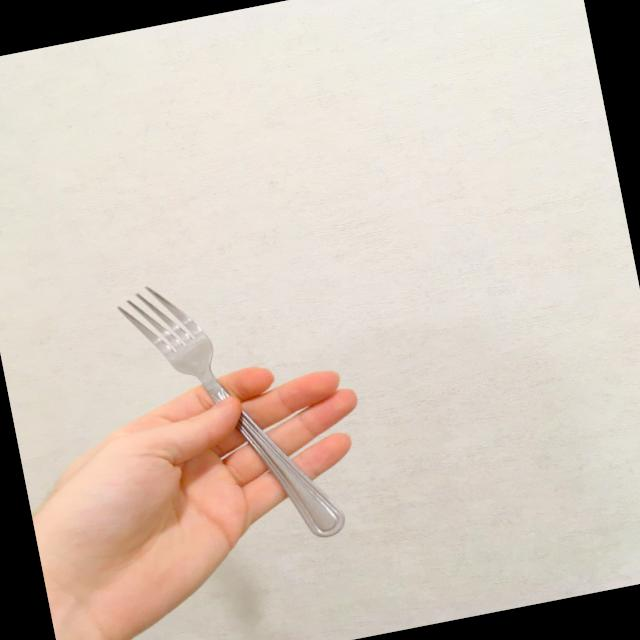fork: (110, 256, 348, 568)
